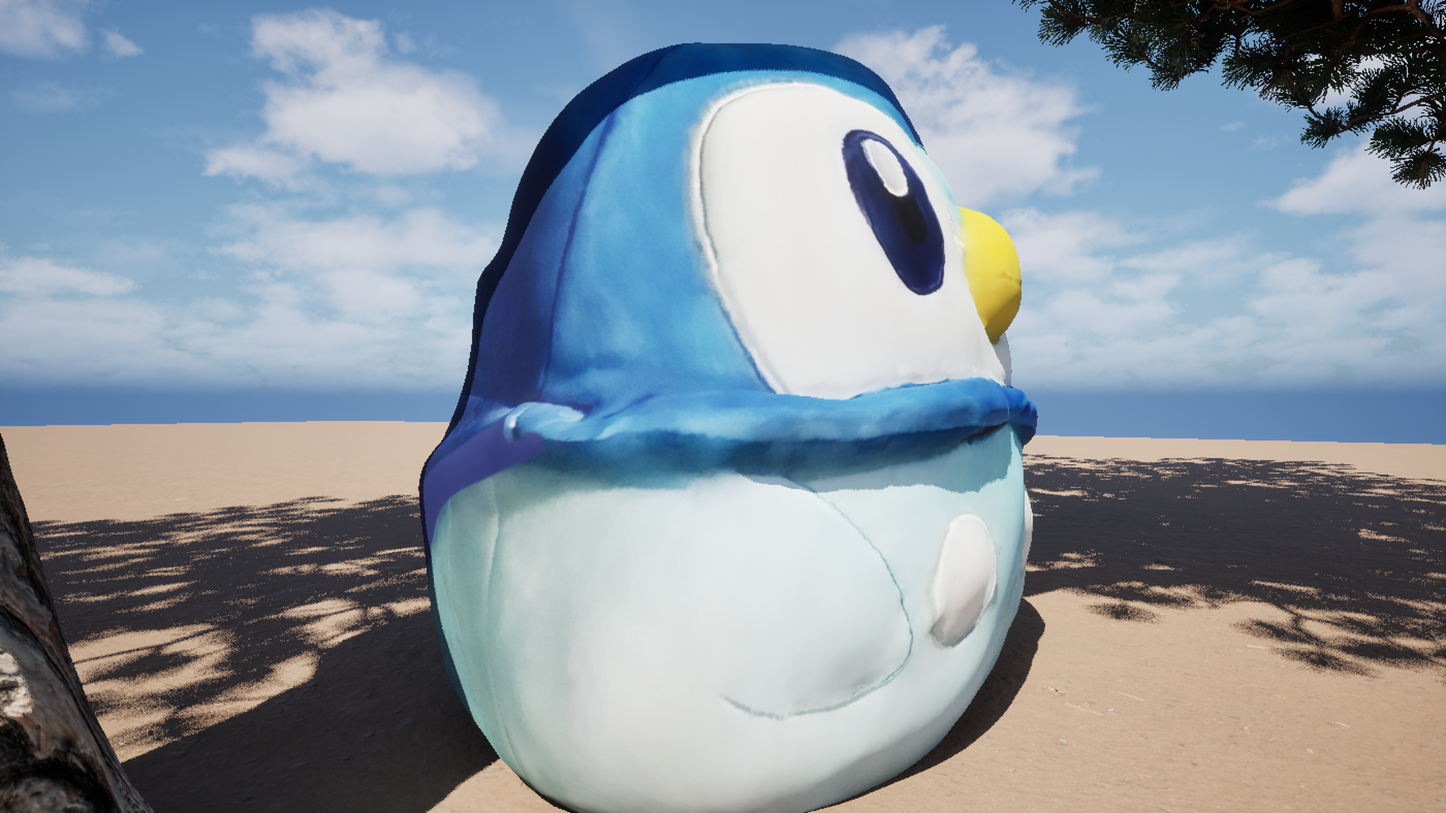Piplup: (227, 0, 1103, 813)
